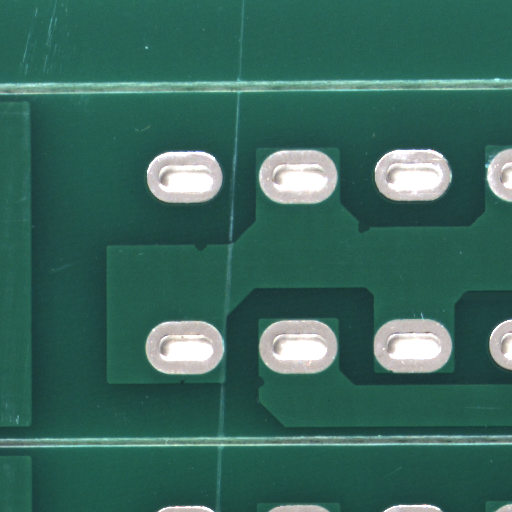Mouse_bite: (363, 227, 377, 240), (261, 384, 268, 398), (201, 247, 214, 254)
